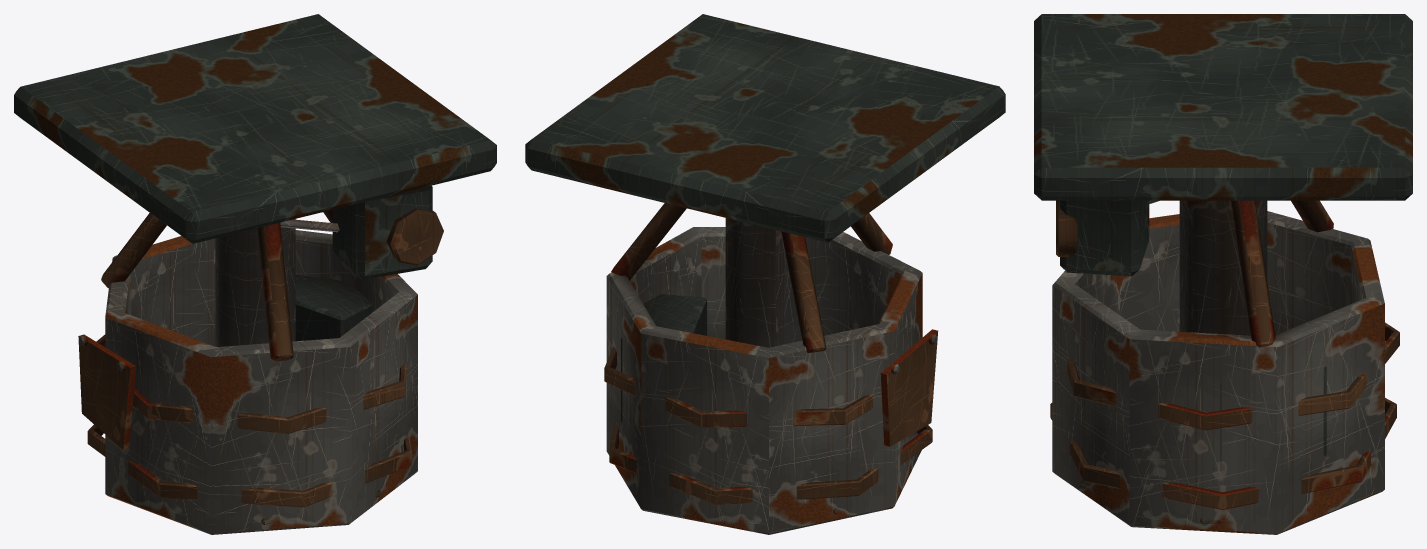
The model's file is R4M_HoverEngine_LOD1.glb.
3 renders of one model, left to right at view 1: azimuth 30°, elevation 25°; view 2: azimuth 150°, elevation 25°; view 3: azimuth 270°, elevation 25°, orthographic. The views are drawn at different scales.
Parts seen in each view (by area): view 1: R4M_HoverEngine_LOD1; view 2: R4M_HoverEngine_LOD1; view 3: R4M_HoverEngine_LOD1.
Part boxes in pixels (box(x1,y1,x2,y2)): R4M_HoverEngine_LOD1: box(14, 14, 496, 534); R4M_HoverEngine_LOD1: box(525, 14, 1005, 534); R4M_HoverEngine_LOD1: box(1034, 14, 1412, 534).
Size of the model in its own units: 0.52 by 0.57 by 0.52.
5 materials, 5 textured.
